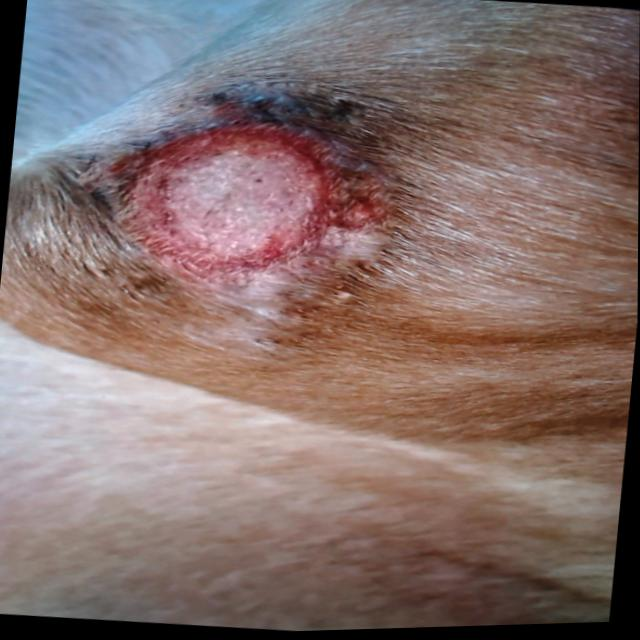ringworm: (86, 106, 417, 306)
